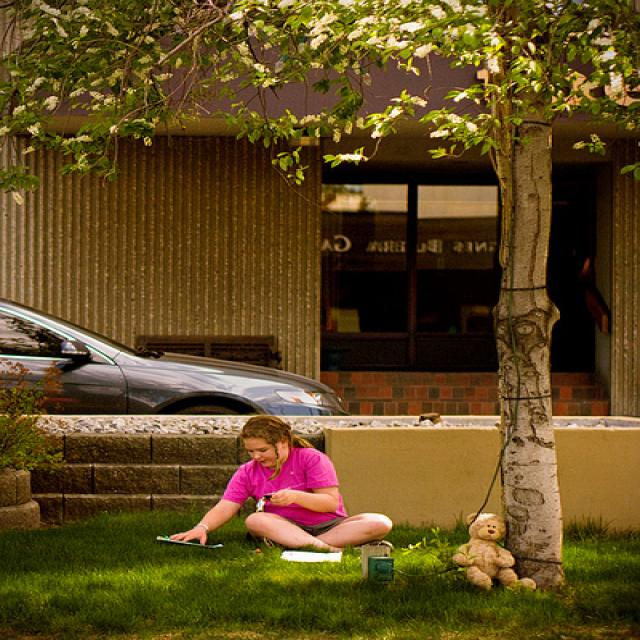Vehicle: (0, 297, 352, 415)
